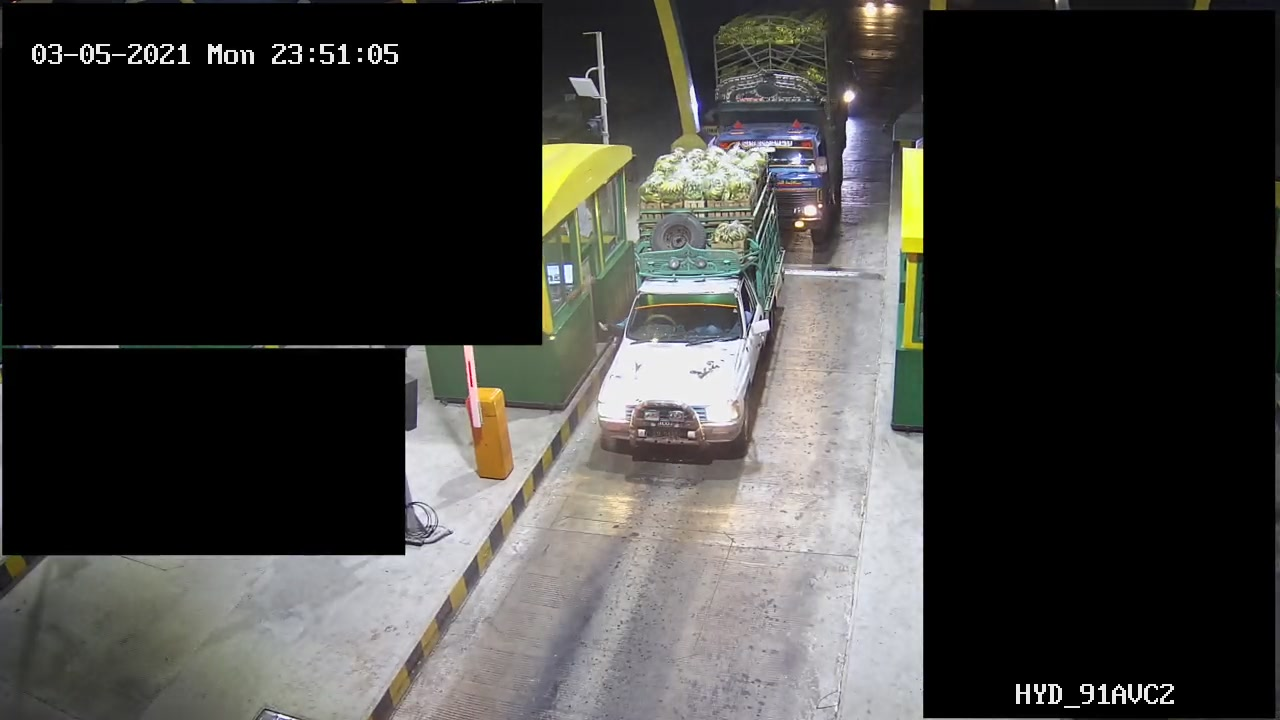F1: (591, 147, 779, 465)
